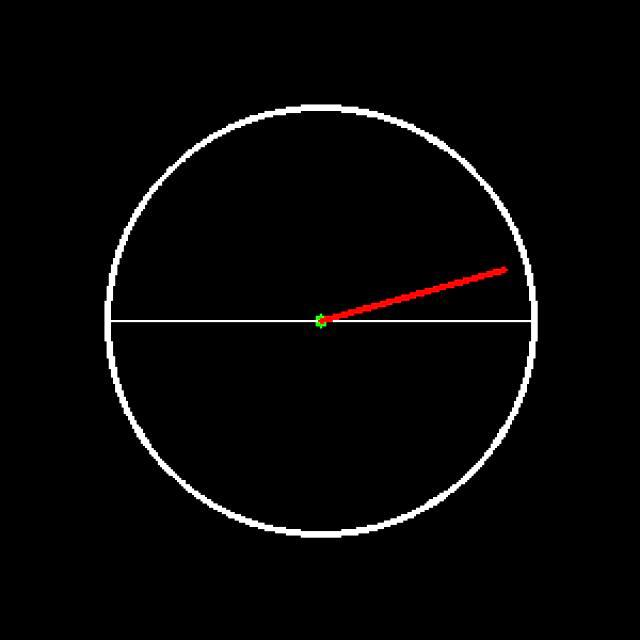Needle_Tip: (483, 249, 514, 296)
Needle_base: (285, 299, 358, 361)
